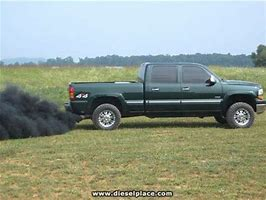smoke: (1, 86, 81, 139)
